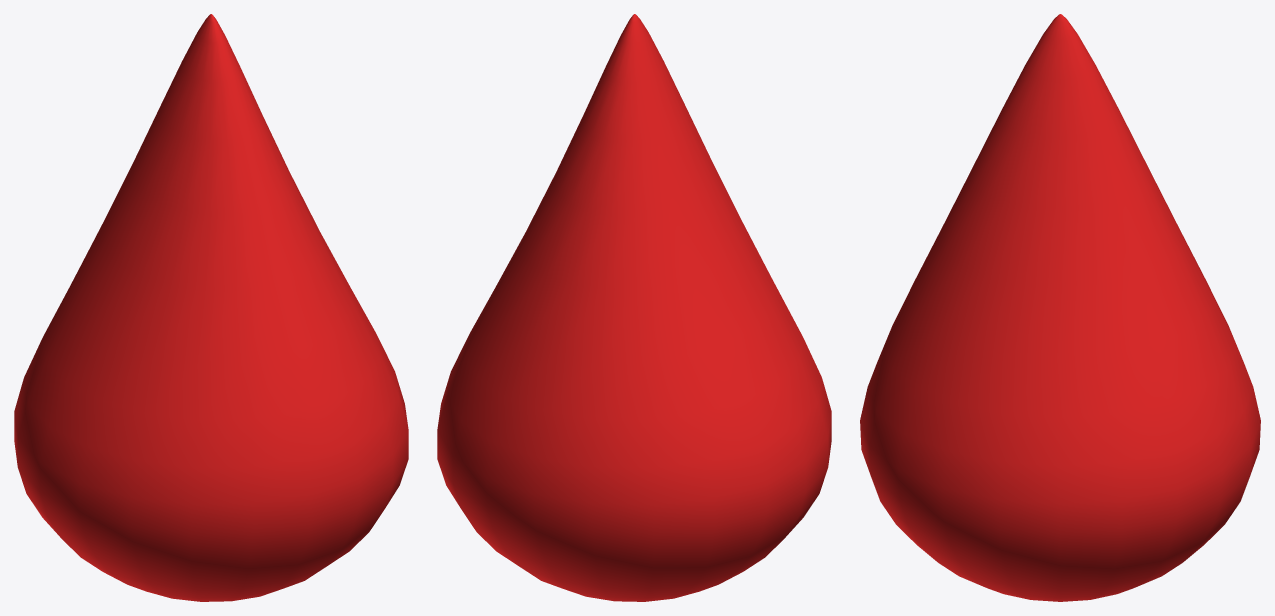
Rendered from Kapla.fbx.
3 renders of one model, left to right at view 1: azimuth 30°, elevation 25°; view 2: azimuth 150°, elevation 25°; view 3: azimuth 270°, elevation 25°, orthographic.
Parts seen in each view (by area): view 1: pSphere1; view 2: pSphere1; view 3: pSphere1.
Boxes of the visible parts, box(x1,y1,x2,y2) form: pSphere1: box(14, 14, 408, 601); pSphere1: box(437, 14, 831, 601); pSphere1: box(860, 14, 1260, 601).
Bounding box in the file's own units: 1.85 × 2.94 × 1.88.
